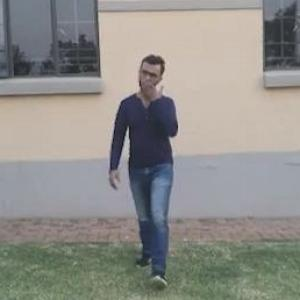follow: (121, 55, 185, 259)
